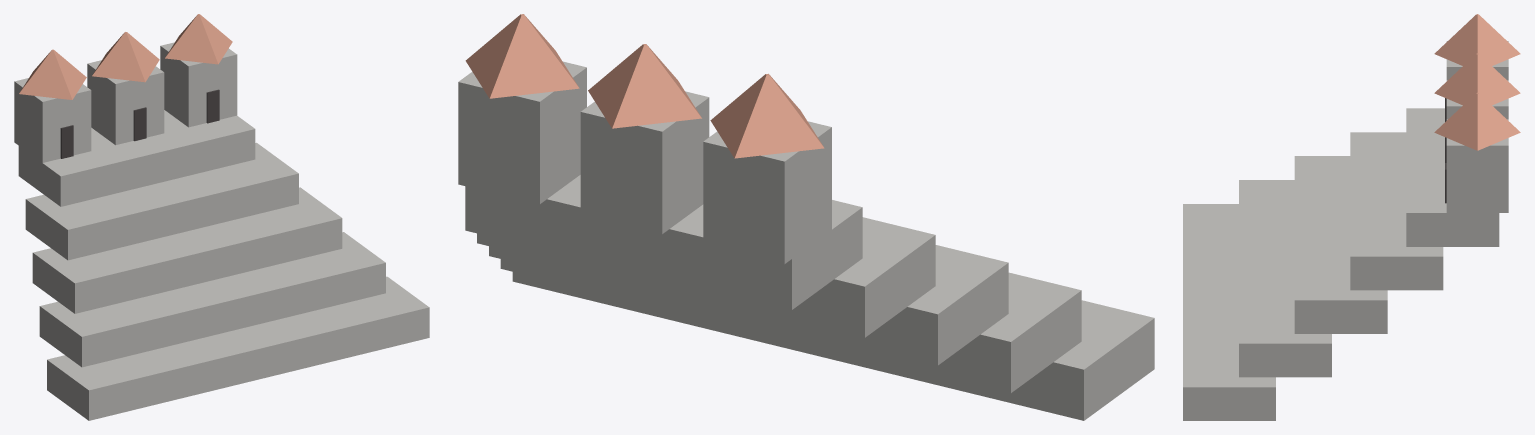
File: andean_s2.glb
The picture shows the model from 3 angles, left to right: view 1: azimuth 30°, elevation 25°; view 2: azimuth 150°, elevation 25°; view 3: azimuth 270°, elevation 25°; orthographic projection. The views are drawn at different scales.
Visible parts, largest first — view 1: andean; view 2: andean; view 3: andean.
Part boxes in pixels (bbox=[...]): andean: bbox=[14, 14, 429, 420]; andean: bbox=[458, 14, 1154, 420]; andean: bbox=[1183, 14, 1520, 420].
Size of the model in its own units: 14.29 by 10 by 11.12.
